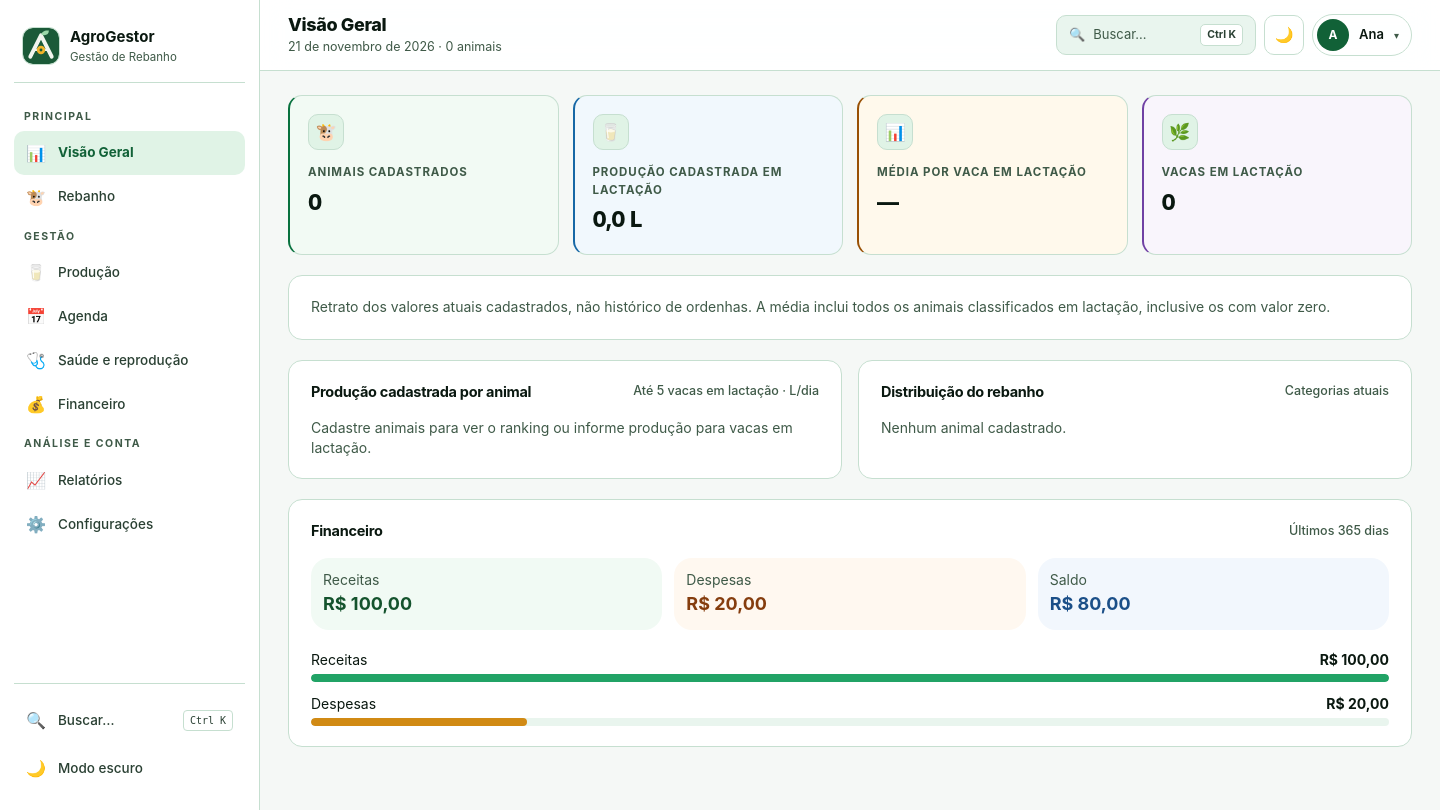
Scenario: navega entre áreas e solicita dados de cada recurso
This screenshot has width=1440, height=810.
Click the button "🥛 Produção": click(130, 272) [14,250,245,294]
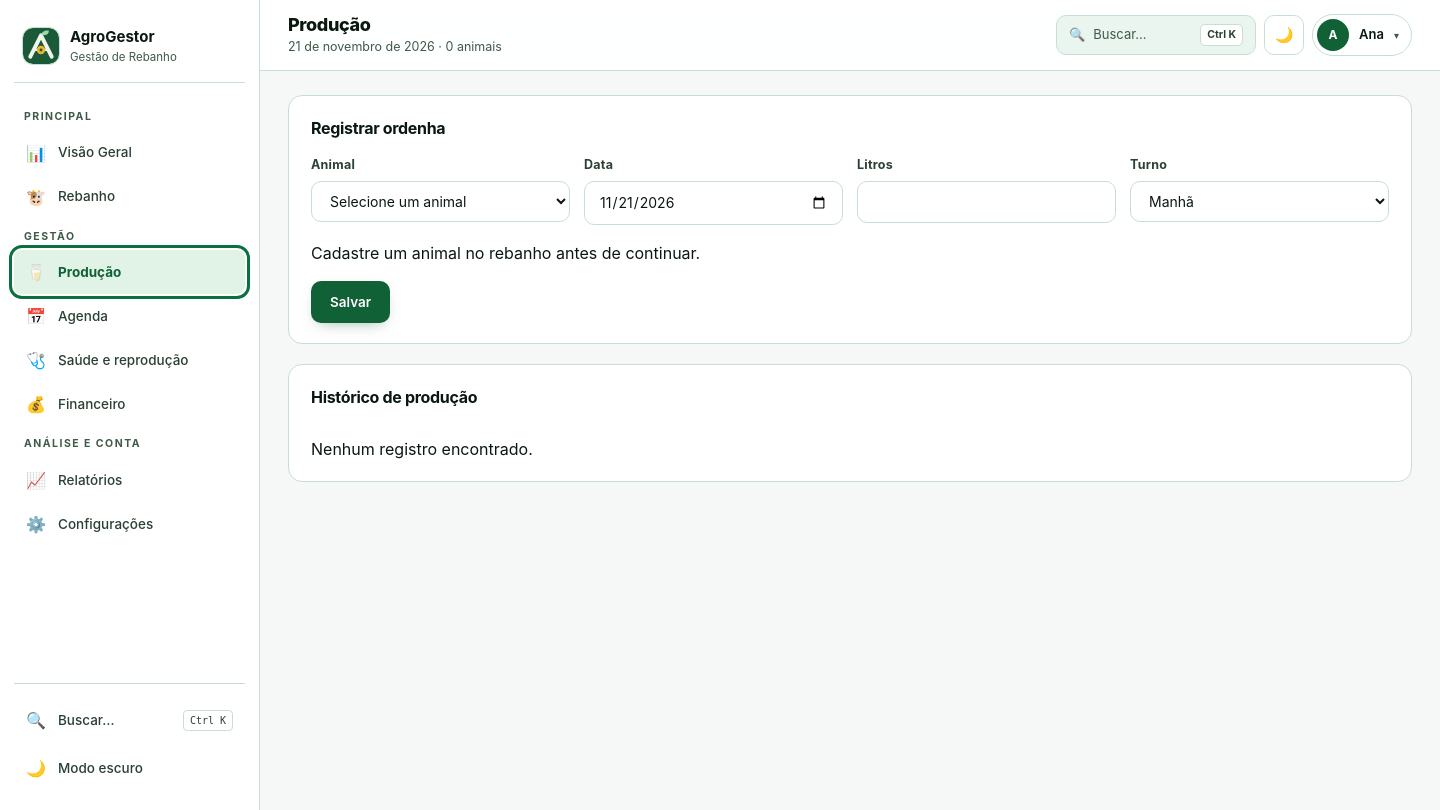
Expected: the heading "Produção" is shown, [288,14,371,35]
Click the button "📅 Agenda": click(130, 316) [14,294,245,338]
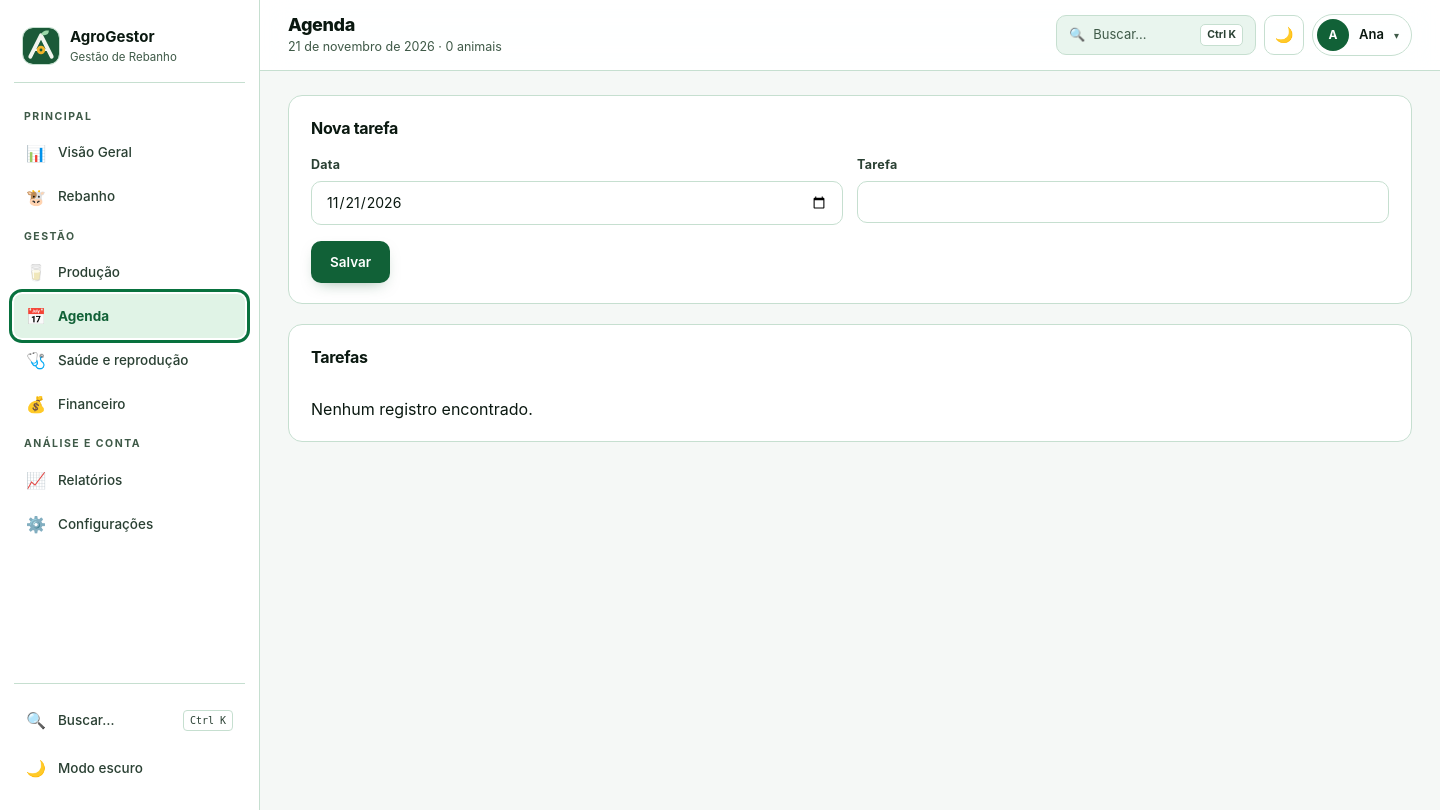
Expected: the heading "Agenda" is shown, [288,14,355,35]
Click the button "🩺 Saúde e reprodução": click(130, 360) [14,338,245,382]
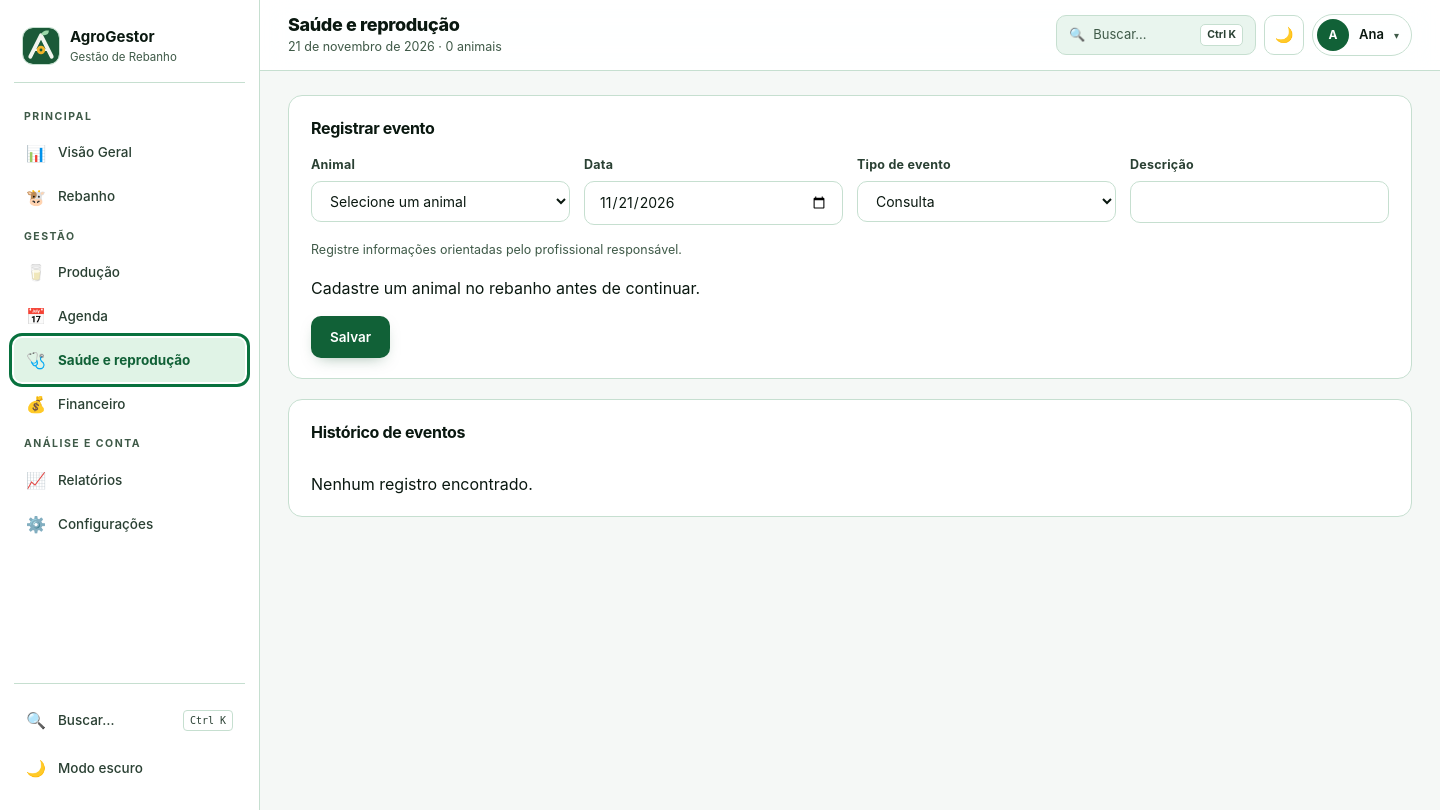
Expected: the heading "Saúde e reprodução" is shown, [288,14,460,35]
Click the button "💰 Financeiro": click(130, 404) [14,382,245,426]
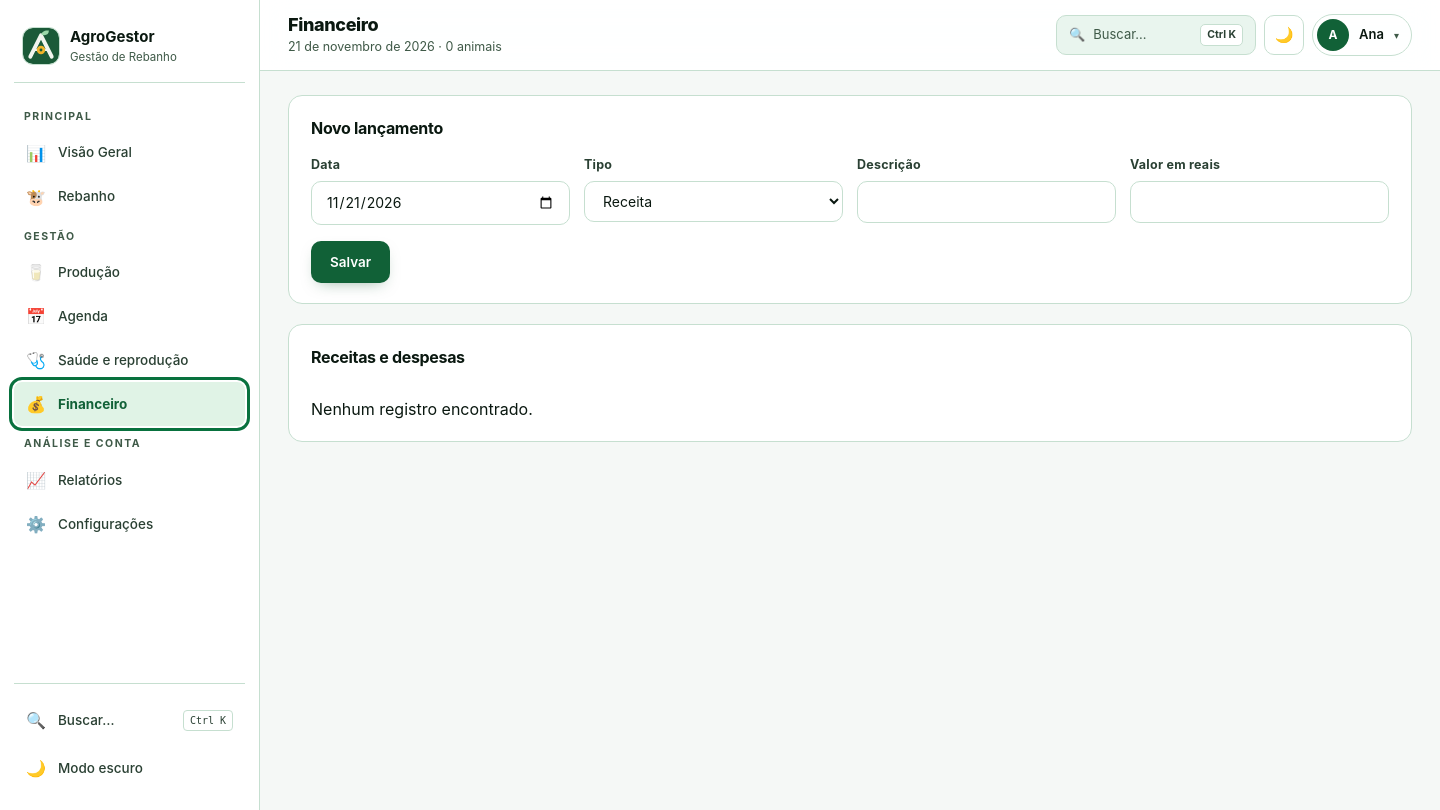
Expected: the heading "Financeiro" is shown, [288,14,378,35]
Click the button "📈 Relatórios": click(130, 480) [14,458,245,502]
(page scrolled)
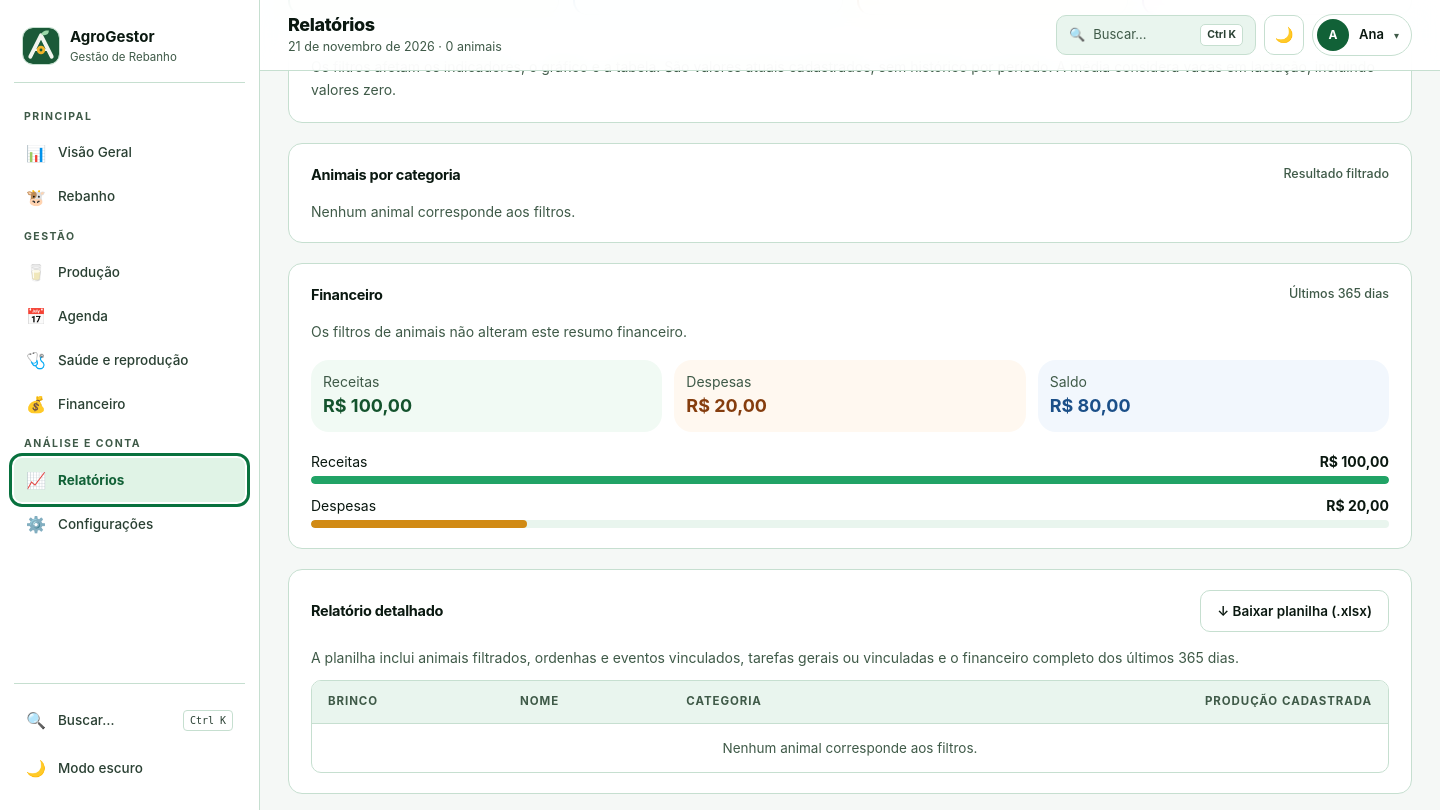
Expected: the heading "Relatórios" is shown, [288,14,375,35]
Expected: the element named "Resumo financeiro" shows "80,00", [1050,395,1131,416]
